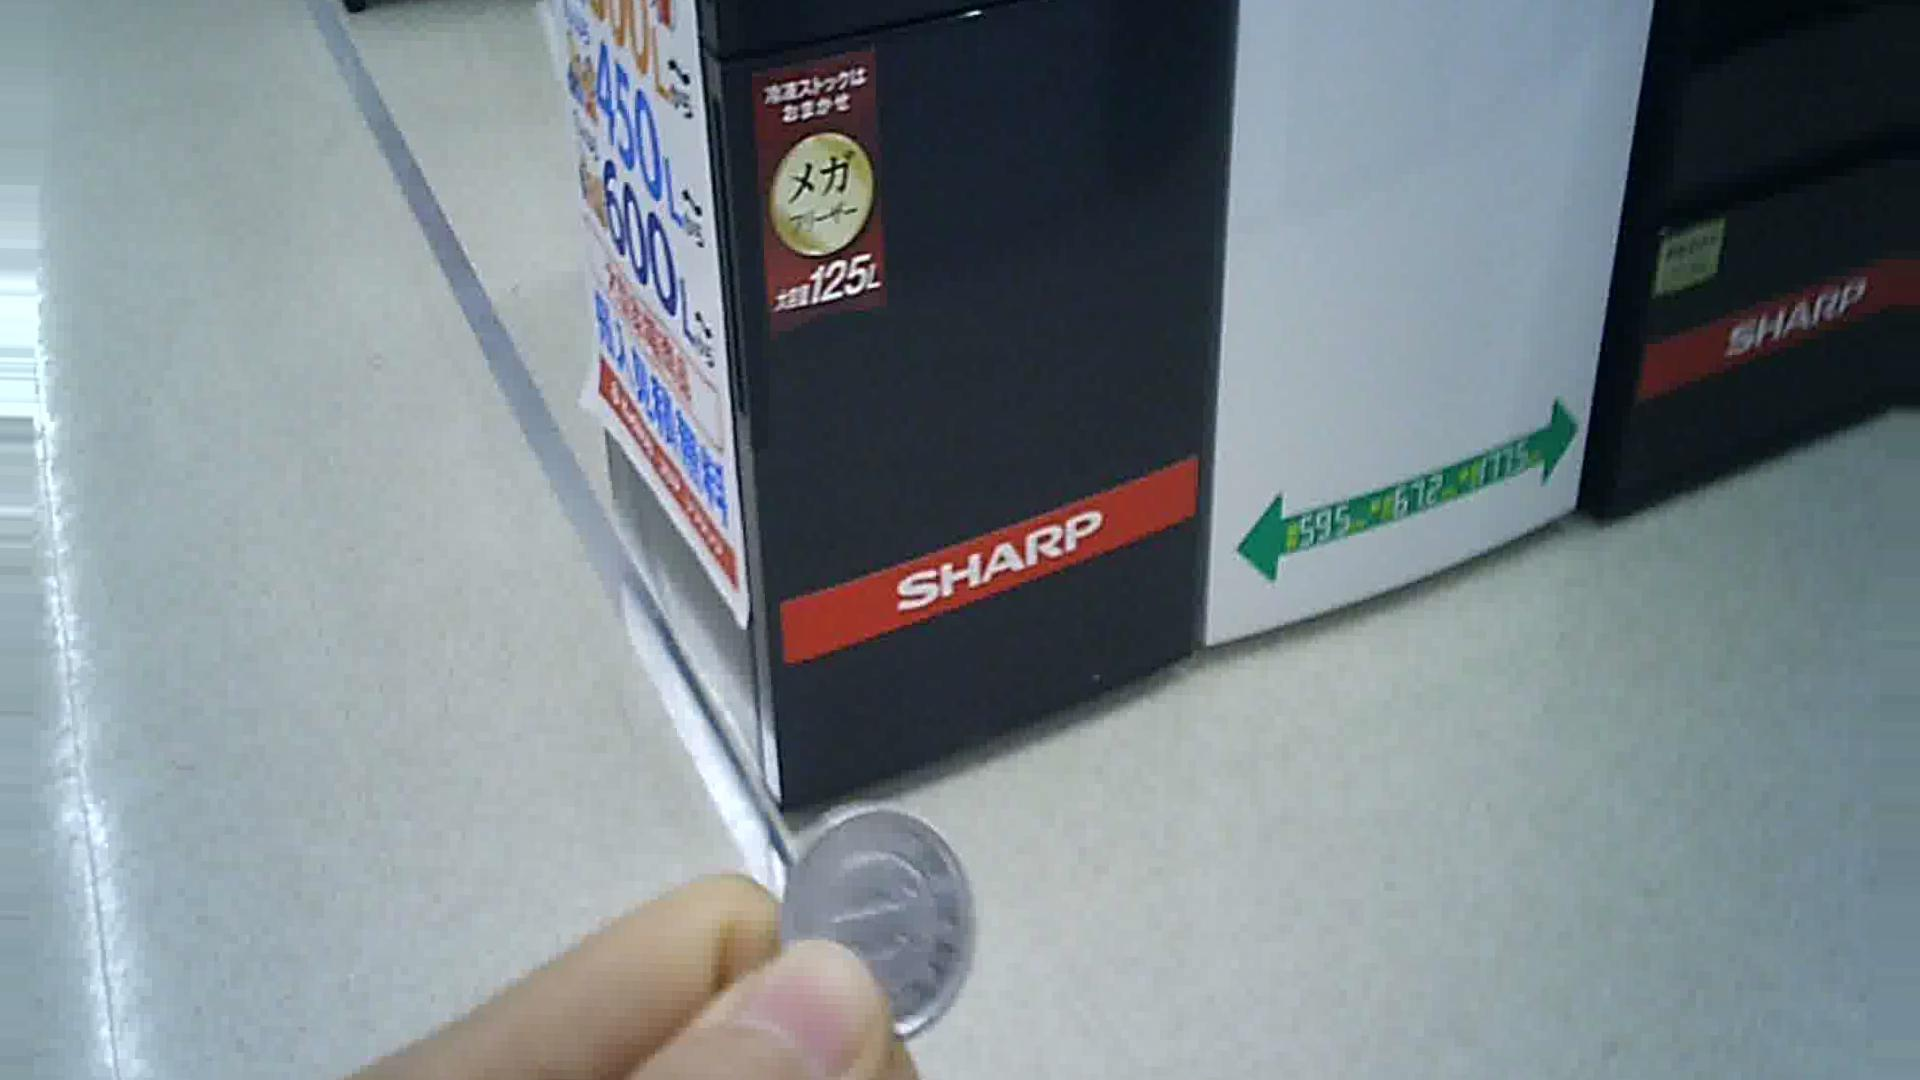1 Yen: (778, 796, 982, 1034)
